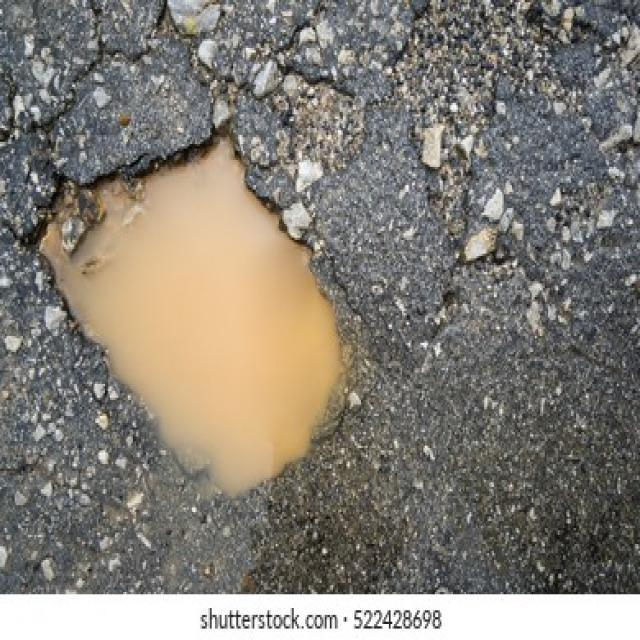Pothole: (18, 123, 354, 503)
